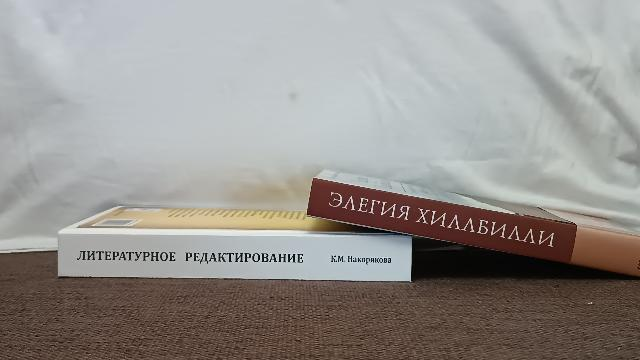book-s-spine: (307, 179, 640, 277), (58, 234, 412, 282)
